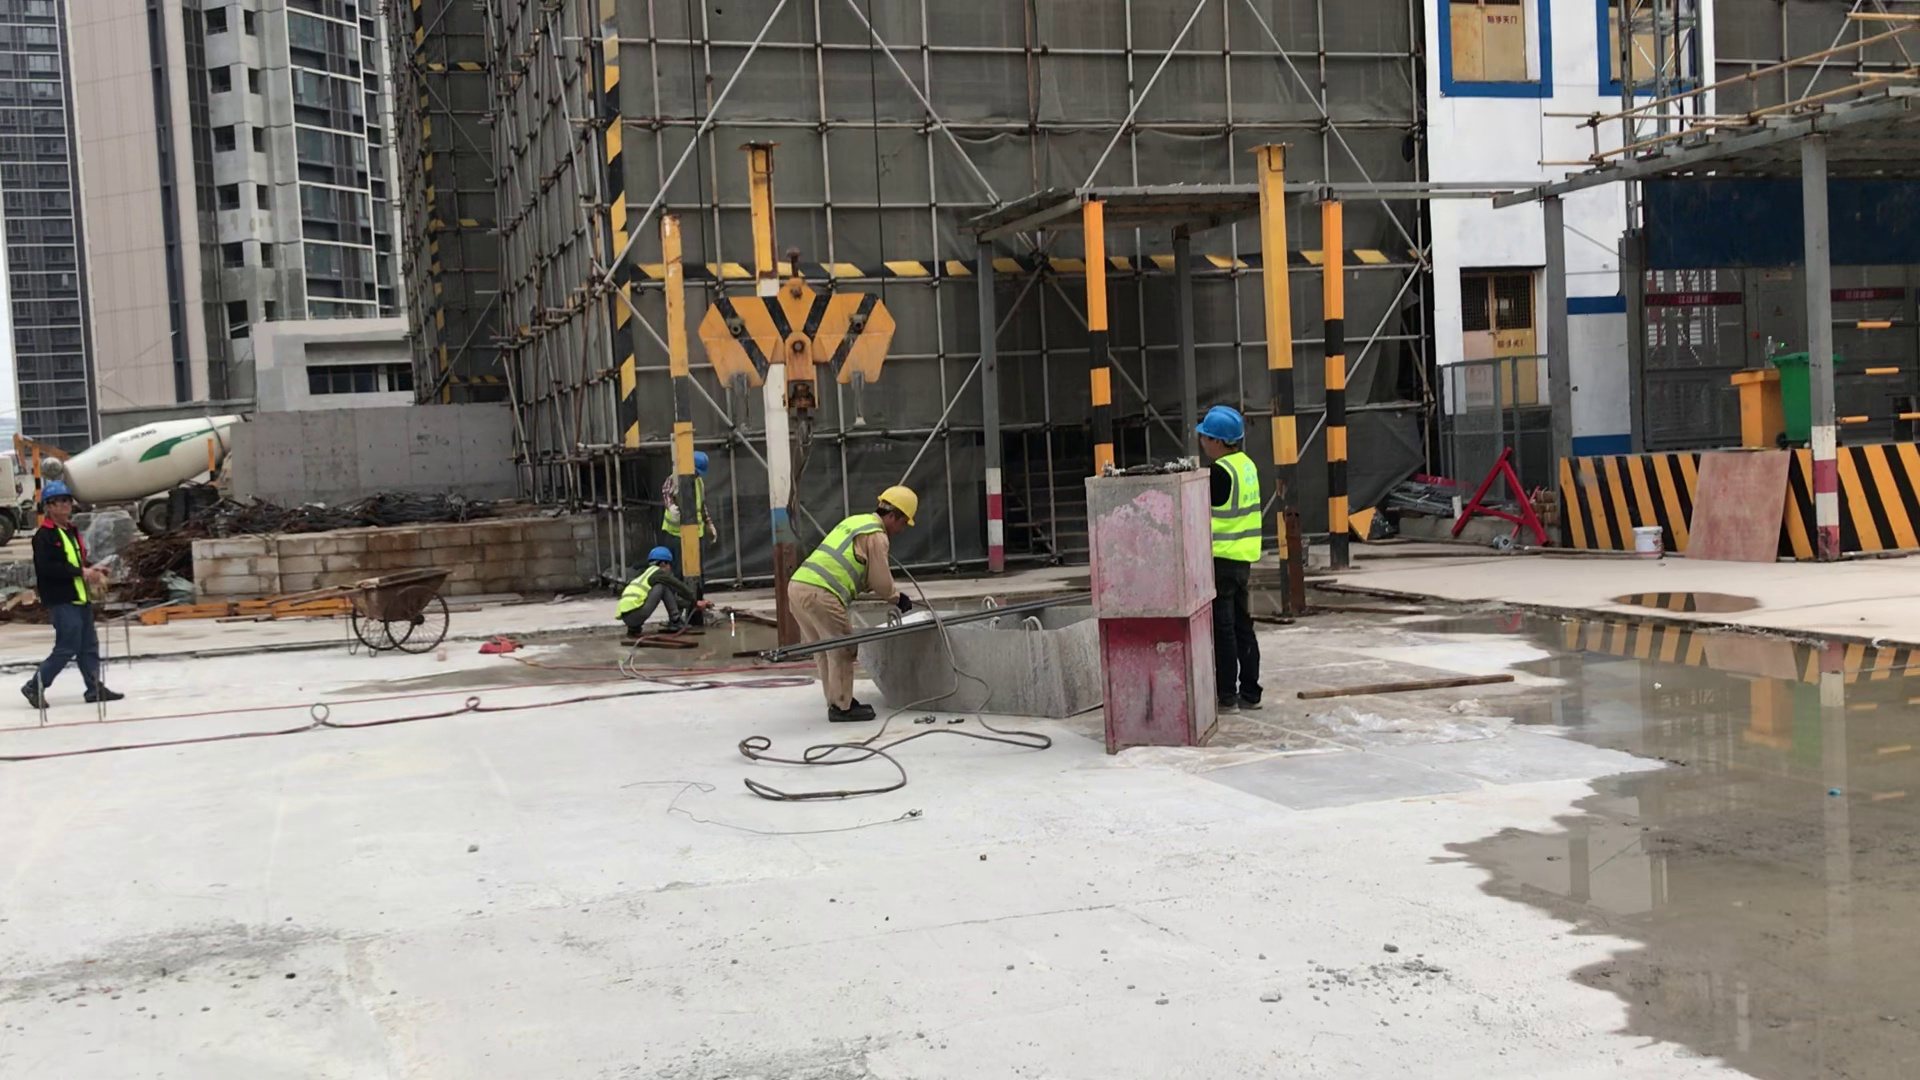fence: (1829, 305, 1920, 457)
handcart: (263, 561, 483, 666)
helmet: (1190, 401, 1254, 456), (873, 474, 925, 533), (27, 481, 84, 503), (646, 542, 683, 572), (689, 444, 719, 479)
hook: (681, 238, 921, 458)
hopper: (831, 572, 1114, 728)
person: (1152, 370, 1298, 735), (773, 476, 939, 734), (16, 450, 133, 735), (646, 426, 744, 566), (606, 527, 704, 649)
rebar: (757, 615, 999, 664)
vest: (778, 507, 890, 616), (1195, 454, 1287, 572), (34, 520, 107, 603), (660, 472, 718, 541), (610, 566, 670, 623)
